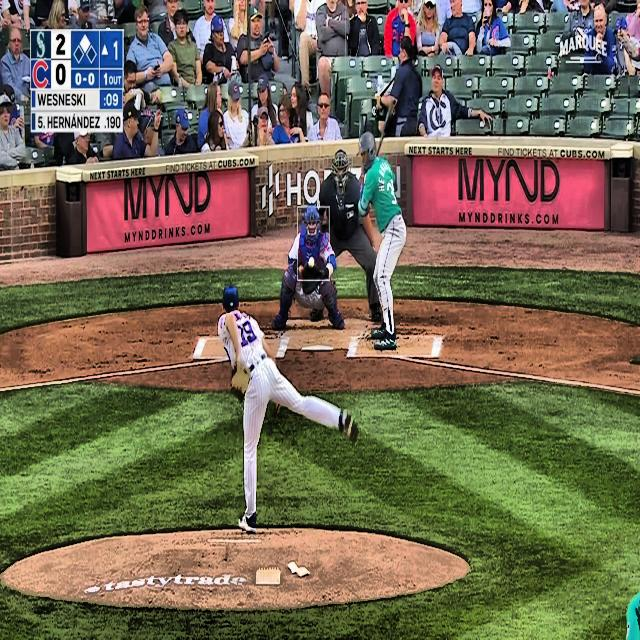baseball: (308, 256, 315, 268)
